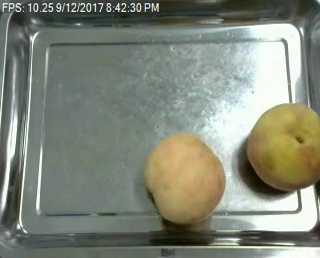Peach: (144, 132, 226, 224), (245, 102, 320, 190)
